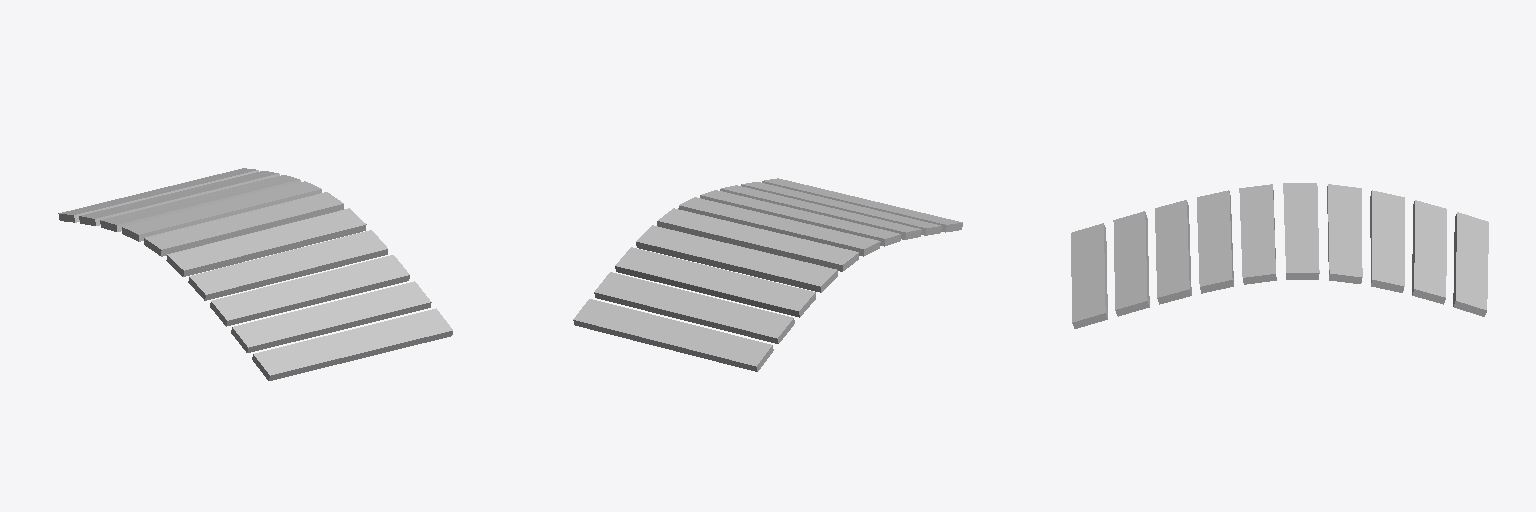
The model's file is island_bridge.obj.
The picture shows the model from 3 angles: view 1: azimuth 30°, elevation 25°; view 2: azimuth 150°, elevation 25°; view 3: azimuth 270°, elevation 25°; orthographic projection.
Visible parts, largest first — view 1: Tablero island; view 2: Tablero island; view 3: Tablero island.
Boxes of the visible parts, box(x1,y1,x2,y2) form: Tablero island: box(58, 168, 452, 380); Tablero island: box(573, 178, 962, 371); Tablero island: box(1071, 183, 1488, 328).
Bounding box in the file's own units: 0.401 × 0.1139 × 0.7768.